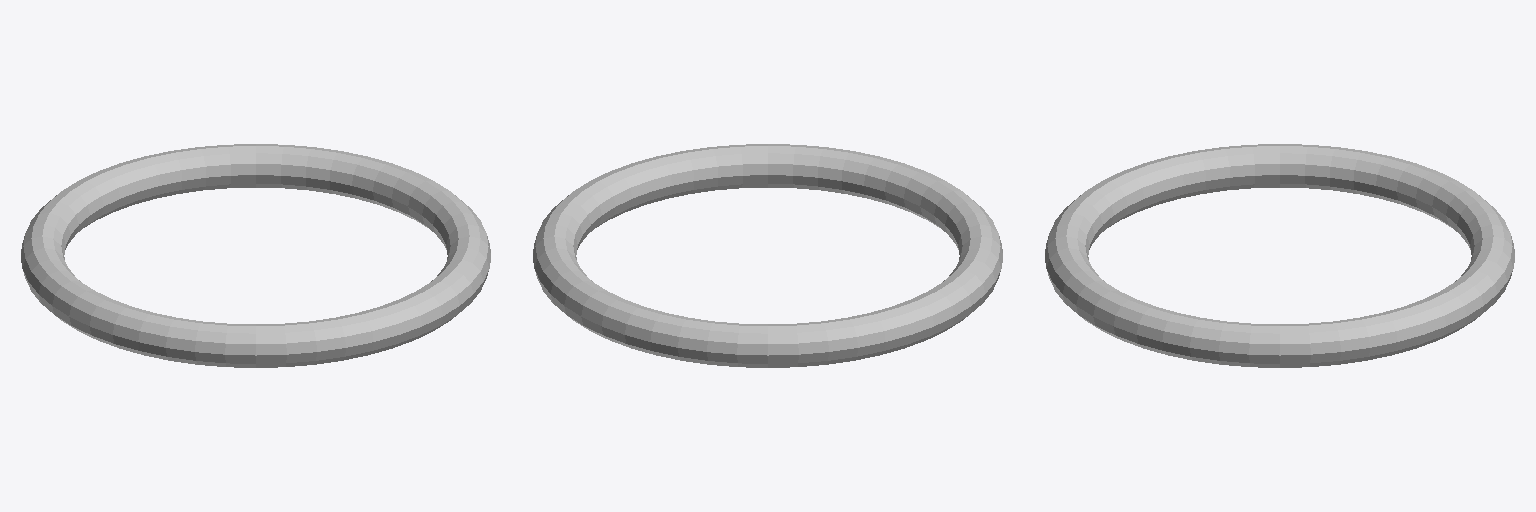
The model's file is ring.obj.
3 renders of one model, left to right at view 1: azimuth 30°, elevation 25°; view 2: azimuth 150°, elevation 25°; view 3: azimuth 270°, elevation 25°, orthographic.
Parts seen in each view (by area): view 1: トーラス.005; view 2: トーラス.005; view 3: トーラス.005.
Boxes of the visible parts, <box> form: トーラス.005: <box>21,144,490,367</box>; トーラス.005: <box>533,144,1002,367</box>; トーラス.005: <box>1045,144,1514,367</box>.
Size of the model in its own units: 10.1 by 0.94 by 10.1.